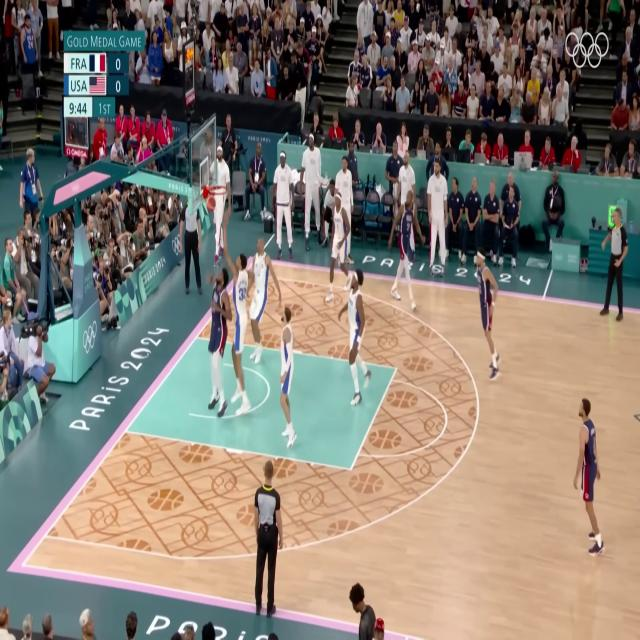player: (321, 266, 382, 408), (568, 400, 610, 563), (220, 243, 258, 416), (200, 245, 234, 426), (241, 218, 280, 368), (270, 292, 300, 458), (471, 250, 502, 391), (393, 190, 426, 316), (323, 192, 358, 296)
